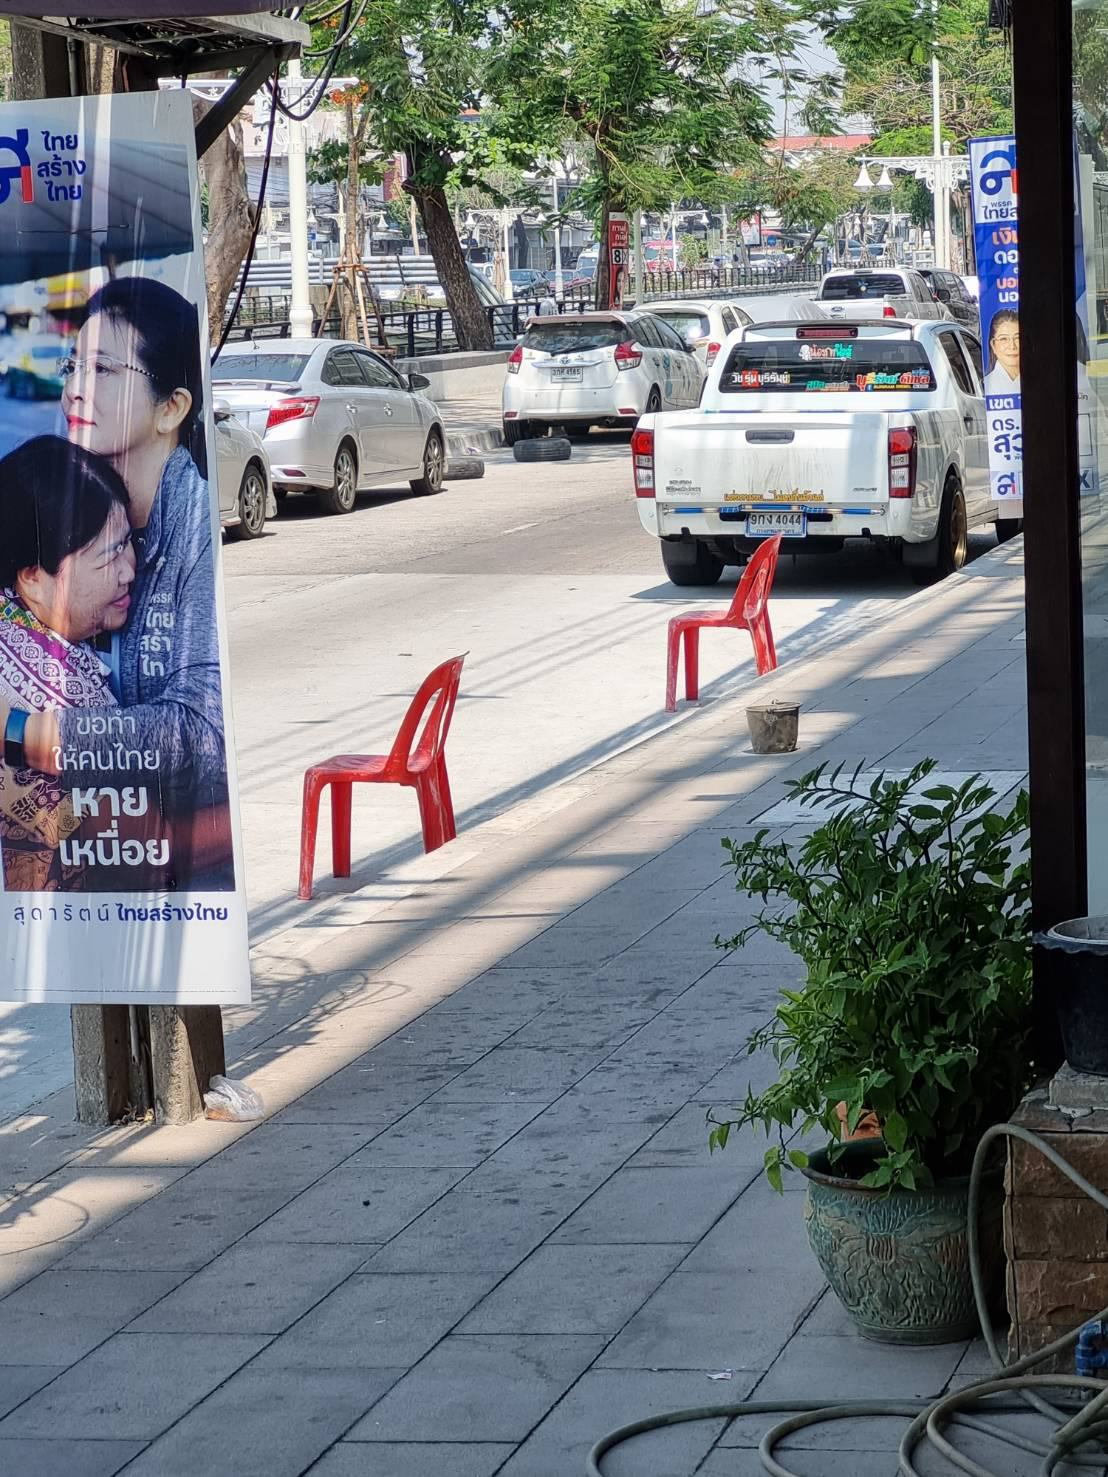Banner: (0, 81, 263, 997)
